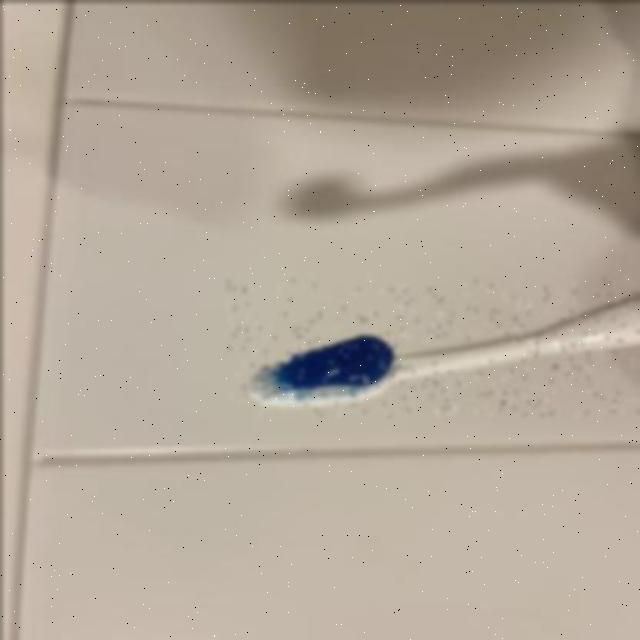toothbrush: (226, 277, 640, 415)
